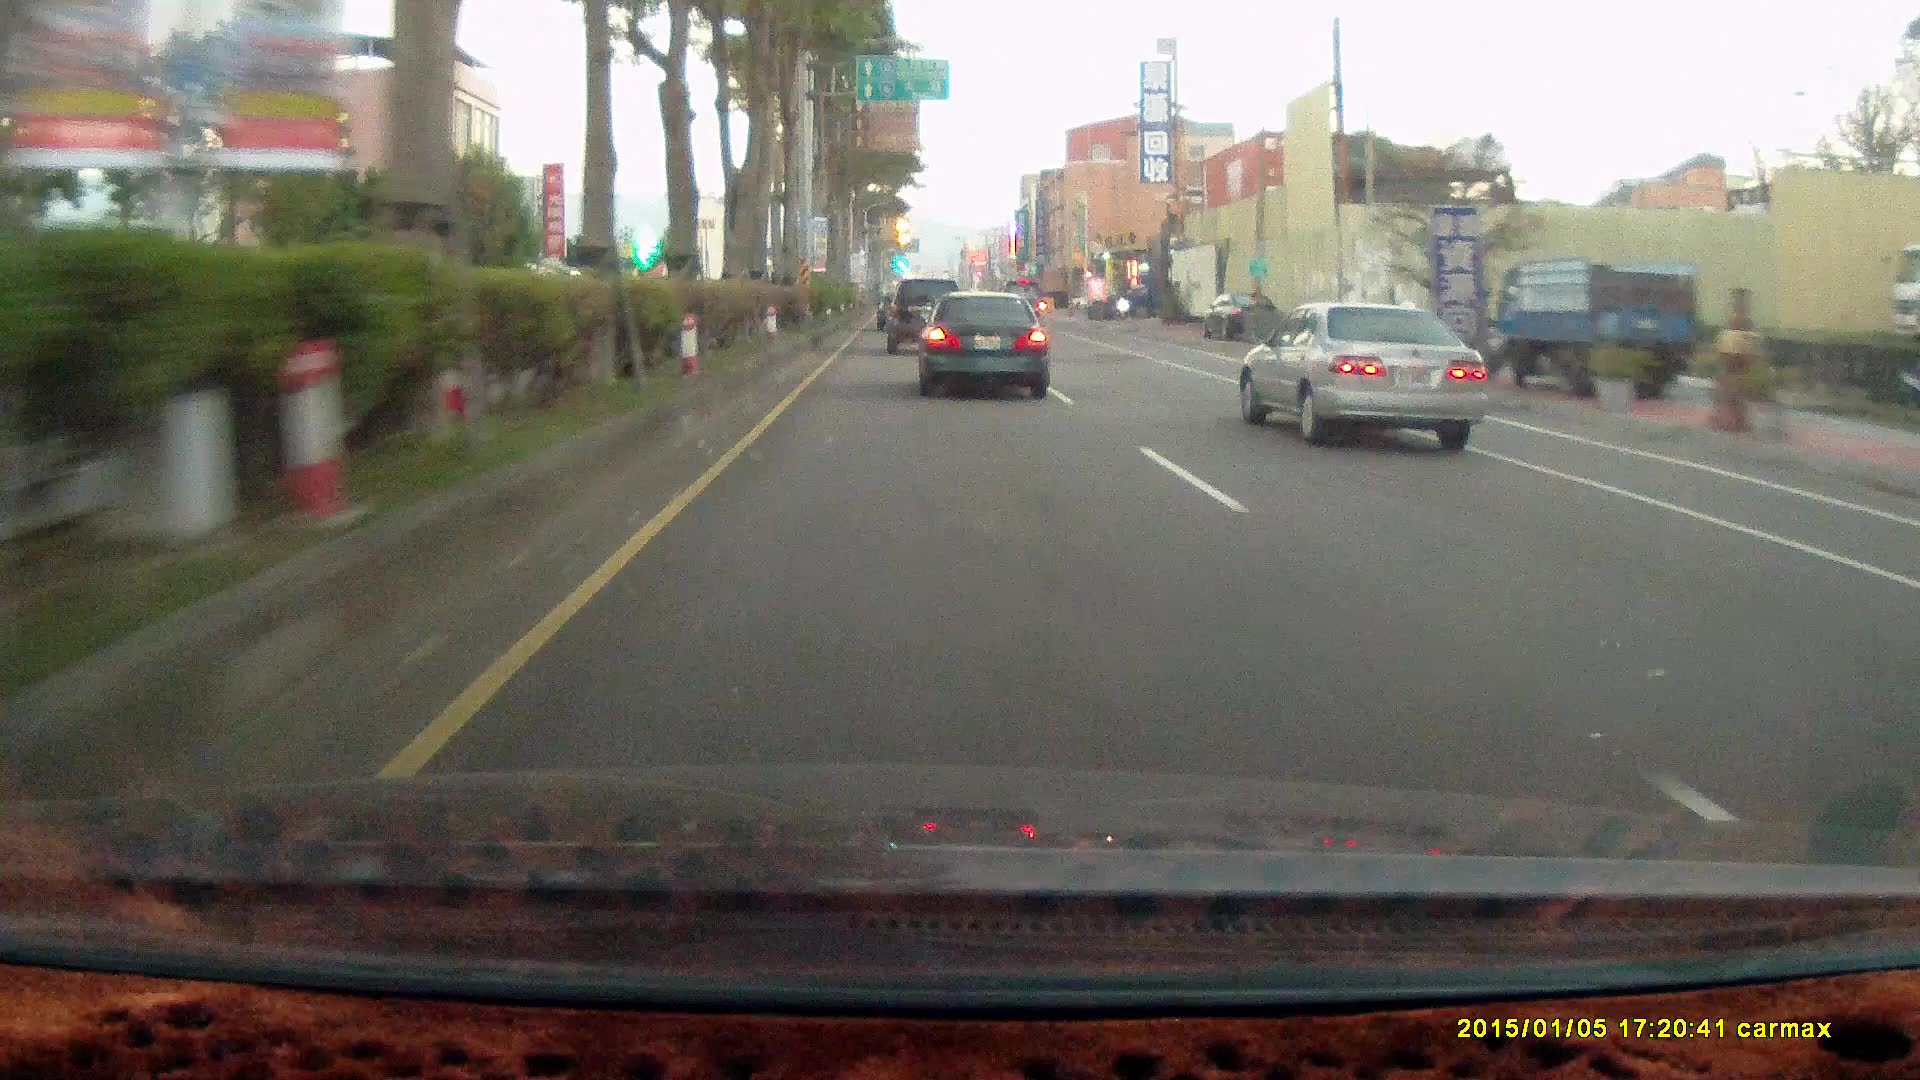vehicle: (1237, 301, 1501, 454), (1238, 301, 1490, 452), (1487, 255, 1701, 404), (1493, 258, 1698, 398), (914, 287, 1048, 396), (920, 293, 1054, 400), (885, 277, 967, 353), (1203, 293, 1286, 344), (1116, 274, 1187, 318)
